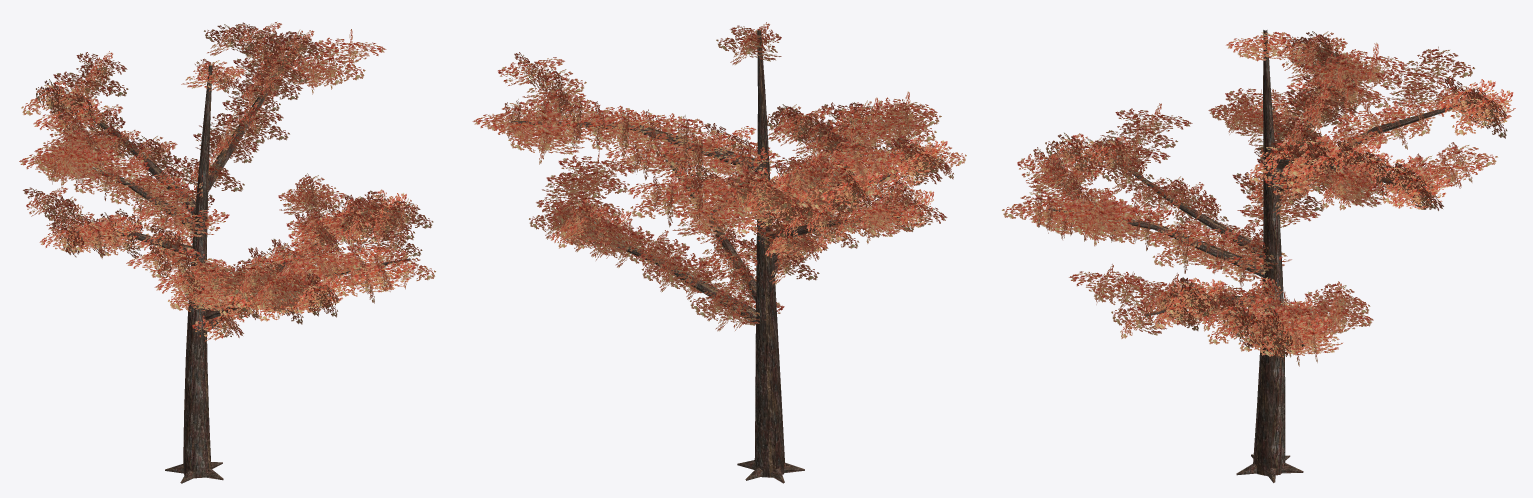
The model's file is tree_3d_04_copper_lod1.glb.
3 views of the same model, side by side, from view 1: azimuth 30°, elevation 25°; view 2: azimuth 150°, elevation 25°; view 3: azimuth 270°, elevation 25° (orthographic). The views are drawn at different scales.
Visible parts, largest first — view 1: foliage_cards, wood_geometry; view 2: foliage_cards, wood_geometry; view 3: foliage_cards, wood_geometry.
Part boxes in pixels (bbox=[...]): foliage_cards: bbox=[19, 22, 435, 341]; wood_geometry: bbox=[66, 46, 410, 483]; foliage_cards: bbox=[472, 22, 966, 331]; wood_geometry: bbox=[511, 30, 903, 483]; foliage_cards: bbox=[1002, 31, 1515, 366]; wood_geometry: bbox=[1048, 30, 1473, 482].
Size of the model in its own units: 8.12 by 8.31 by 8.72.
Materials: 2 (2 with a texture image).
